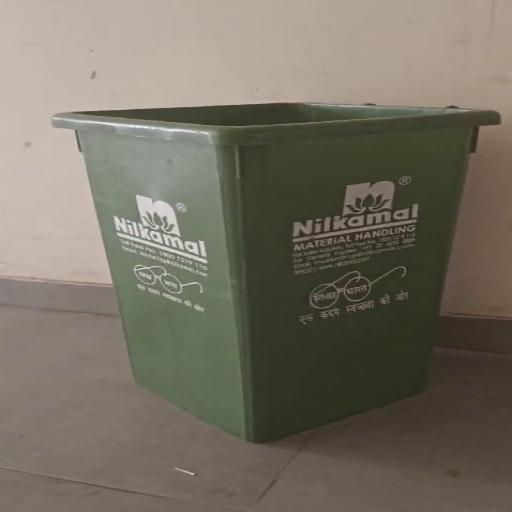Nilkamal-dustbin-detection: (55, 104, 498, 441)
